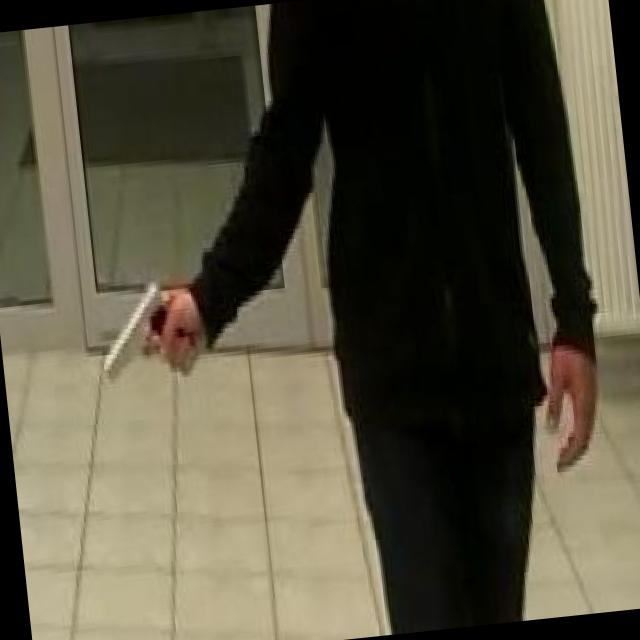Guns: (84, 270, 200, 391)
